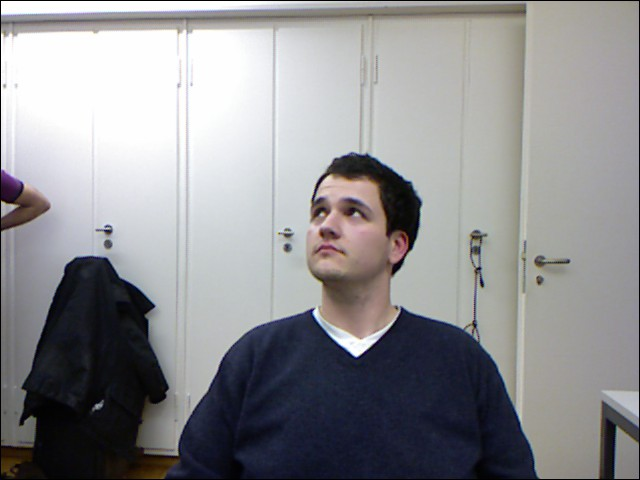deflection: (198, 162, 518, 455)
